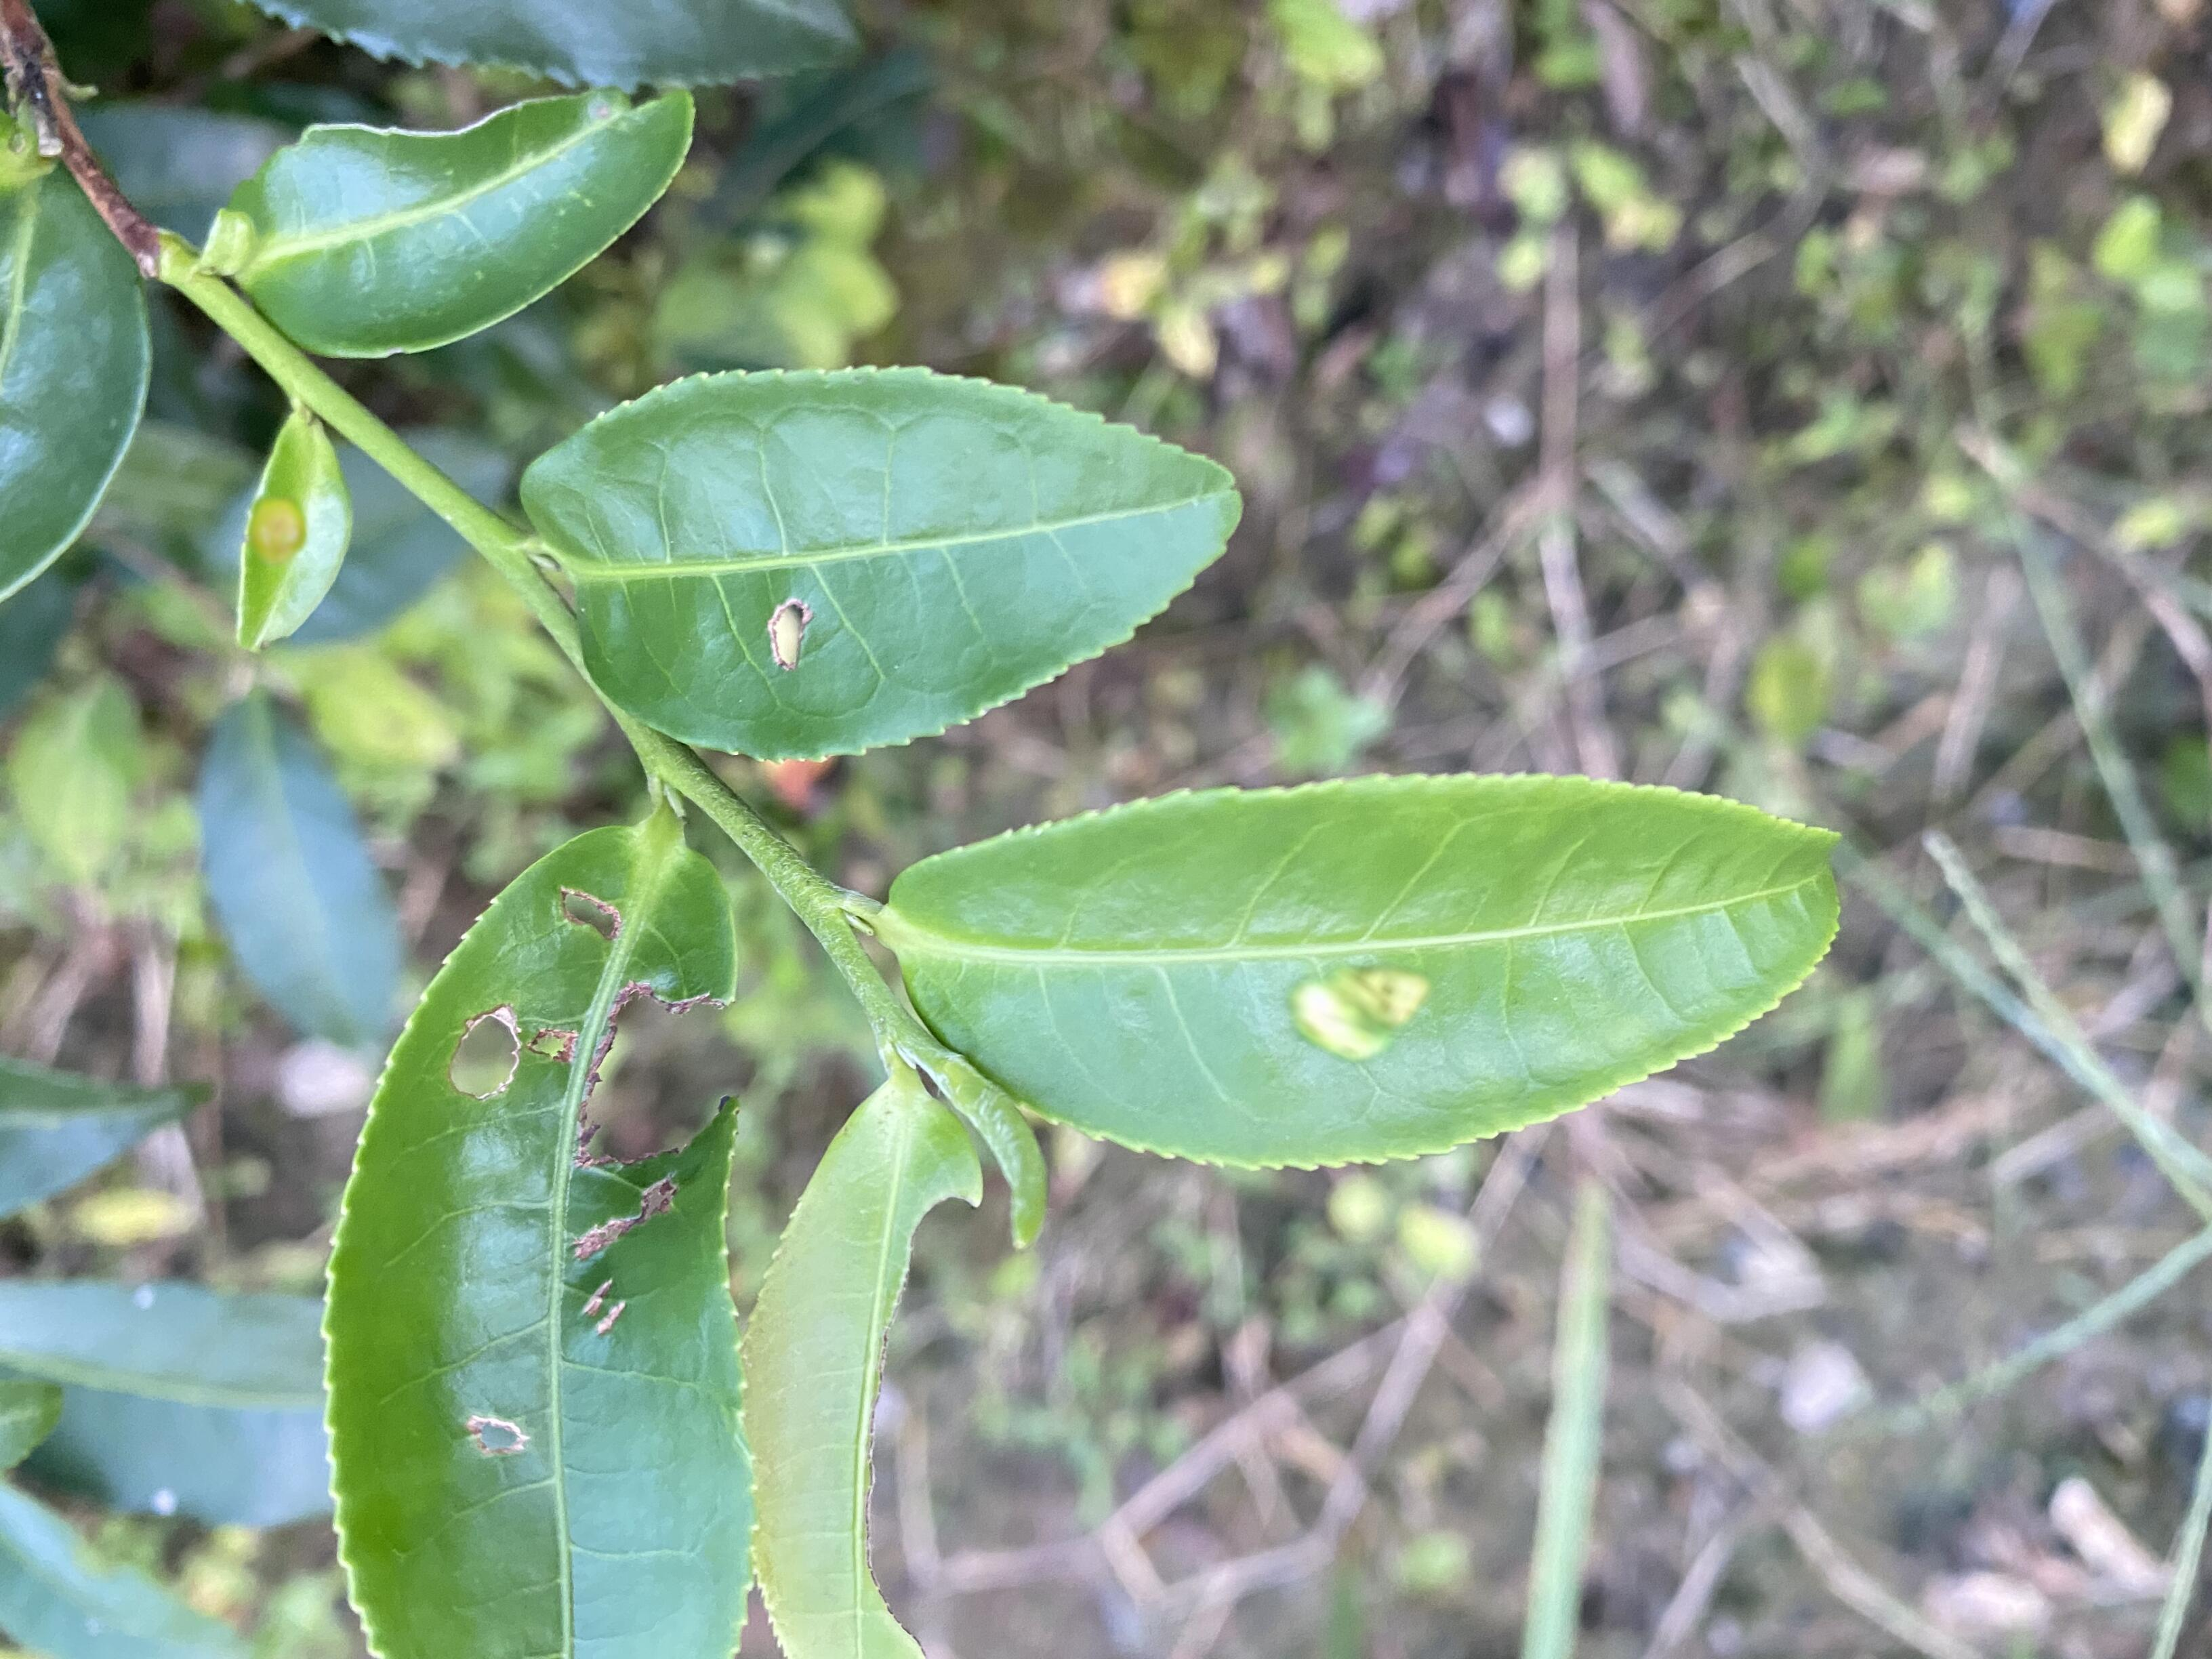chabing_low: (885, 772, 1846, 1176), (233, 411, 355, 659)
chihuo_high: (319, 824, 758, 1652), (740, 1077, 984, 1656)
chihuo_low: (516, 362, 1240, 763)
